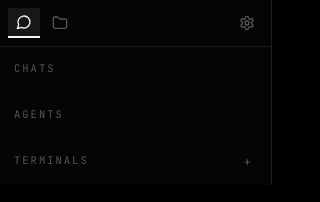
Scenario: switches to the files view when the files rail icon is clicked
Click the button named "files". click: [60, 23]
box: [44, 8, 76, 38]
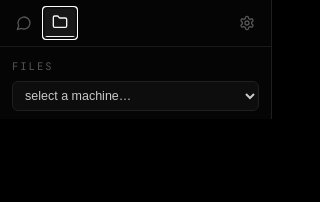
expect the element with test id "files-panel" is shown: met, box [0, 47, 271, 119]
